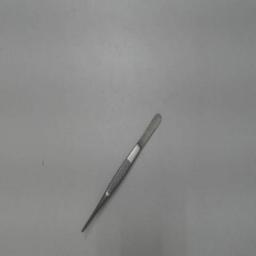Gillies Toothed Dissector: (78, 105, 170, 237)
